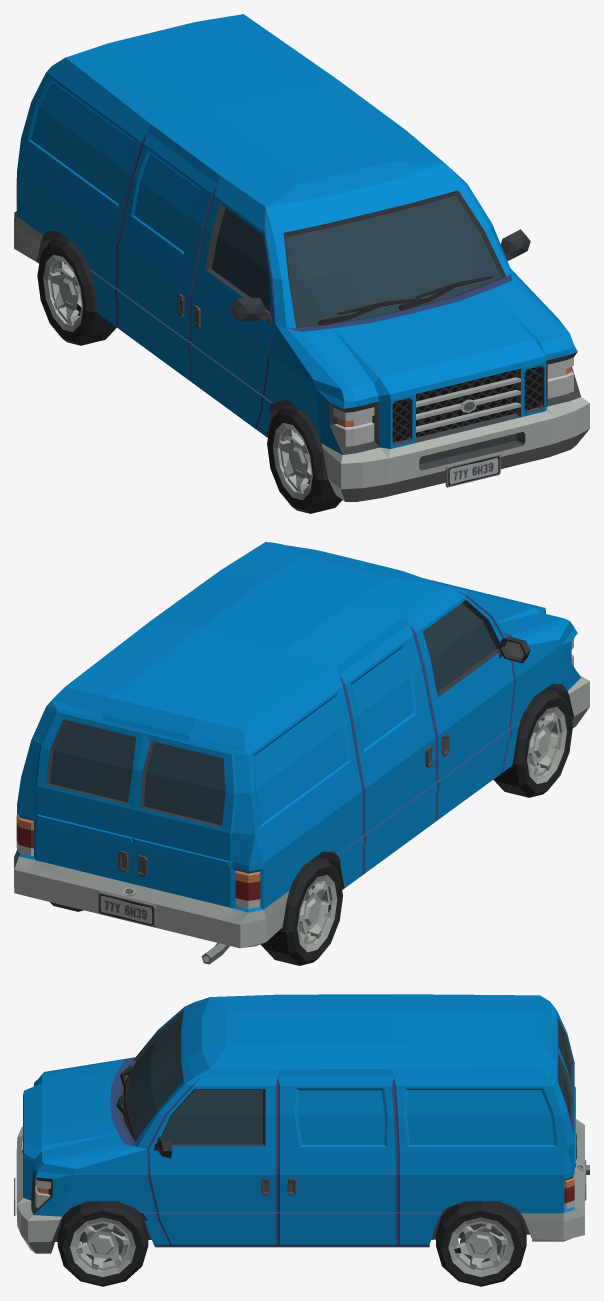
Rendered from van.glb.
3 renders of one model, top to bottom at view 1: azimuth 30°, elevation 25°; view 2: azimuth 150°, elevation 25°; view 3: azimuth 270°, elevation 25°, orthographic. The views are drawn at different scales.
Visible parts, largest first — view 1: SM_Veh_Car_Van_01, SM_Veh_Car_Van_Glass, SM_Veh_Car_Van_Wheel_rr, SM_Veh_Car_Van_Wheel_fr, SM_Veh_Car_Van_Plates; view 2: SM_Veh_Car_Van_01, SM_Veh_Car_Van_Door_r, SM_Veh_Car_Van_Door_l, SM_Veh_Car_Van_Wheel_rr, SM_Veh_Car_Van_Wheel_fr, SM_Veh_Car_Van_Door_r_Glass, SM_Veh_Car_Van_Door_l_Glass, SM_Veh_Car_Van_Glass, SM_Veh_Car_Van_Plates; view 3: SM_Veh_Car_Van_01, SM_Veh_Car_Van_Glass, SM_Veh_Car_Van_Wheel_rl, SM_Veh_Car_Van_Wheel_fl, SM_Veh_Car_Van_Door_l, SM_Veh_Car_Van_Door_r.
Part boxes in pixels (x1=…): SM_Veh_Car_Van_01: x1=14, y1=14, x2=589, y2=501; SM_Veh_Car_Van_Glass: x1=212, y1=195, x2=501, y2=326; SM_Veh_Car_Van_Wheel_rr: x1=37, y1=236, x2=116, y2=345; SM_Veh_Car_Van_Wheel_fr: x1=267, y1=404, x2=342, y2=513; SM_Veh_Car_Van_Plates: x1=445, y1=453, x2=500, y2=487; SM_Veh_Car_Van_01: x1=14, y1=542, x2=589, y2=964; SM_Veh_Car_Van_Door_r: x1=133, y1=733, x2=234, y2=905; SM_Veh_Car_Van_Door_l: x1=36, y1=712, x2=143, y2=882; SM_Veh_Car_Van_Wheel_rr: x1=260, y1=856, x2=342, y2=965; SM_Veh_Car_Van_Wheel_fr: x1=493, y1=688, x2=572, y2=797; SM_Veh_Car_Van_Door_r_Glass: x1=144, y1=743, x2=225, y2=825; SM_Veh_Car_Van_Door_l_Glass: x1=49, y1=721, x2=135, y2=802; SM_Veh_Car_Van_Glass: x1=423, y1=603, x2=496, y2=692; SM_Veh_Car_Van_Plates: x1=98, y1=891, x2=156, y2=927; SM_Veh_Car_Van_01: x1=16, y1=994, x2=589, y2=1253; SM_Veh_Car_Van_Glass: x1=122, y1=1016, x2=262, y2=1144; SM_Veh_Car_Van_Wheel_rl: x1=436, y1=1201, x2=526, y2=1286; SM_Veh_Car_Van_Wheel_fl: x1=57, y1=1201, x2=148, y2=1286; SM_Veh_Car_Van_Door_l: x1=557, y1=1046, x2=576, y2=1167; SM_Veh_Car_Van_Door_r: x1=557, y1=1011, x2=576, y2=1140.
Size of the model in its own units: 2.28 by 1.87 by 4.65.
Materials: 3 (1 with a texture image).
